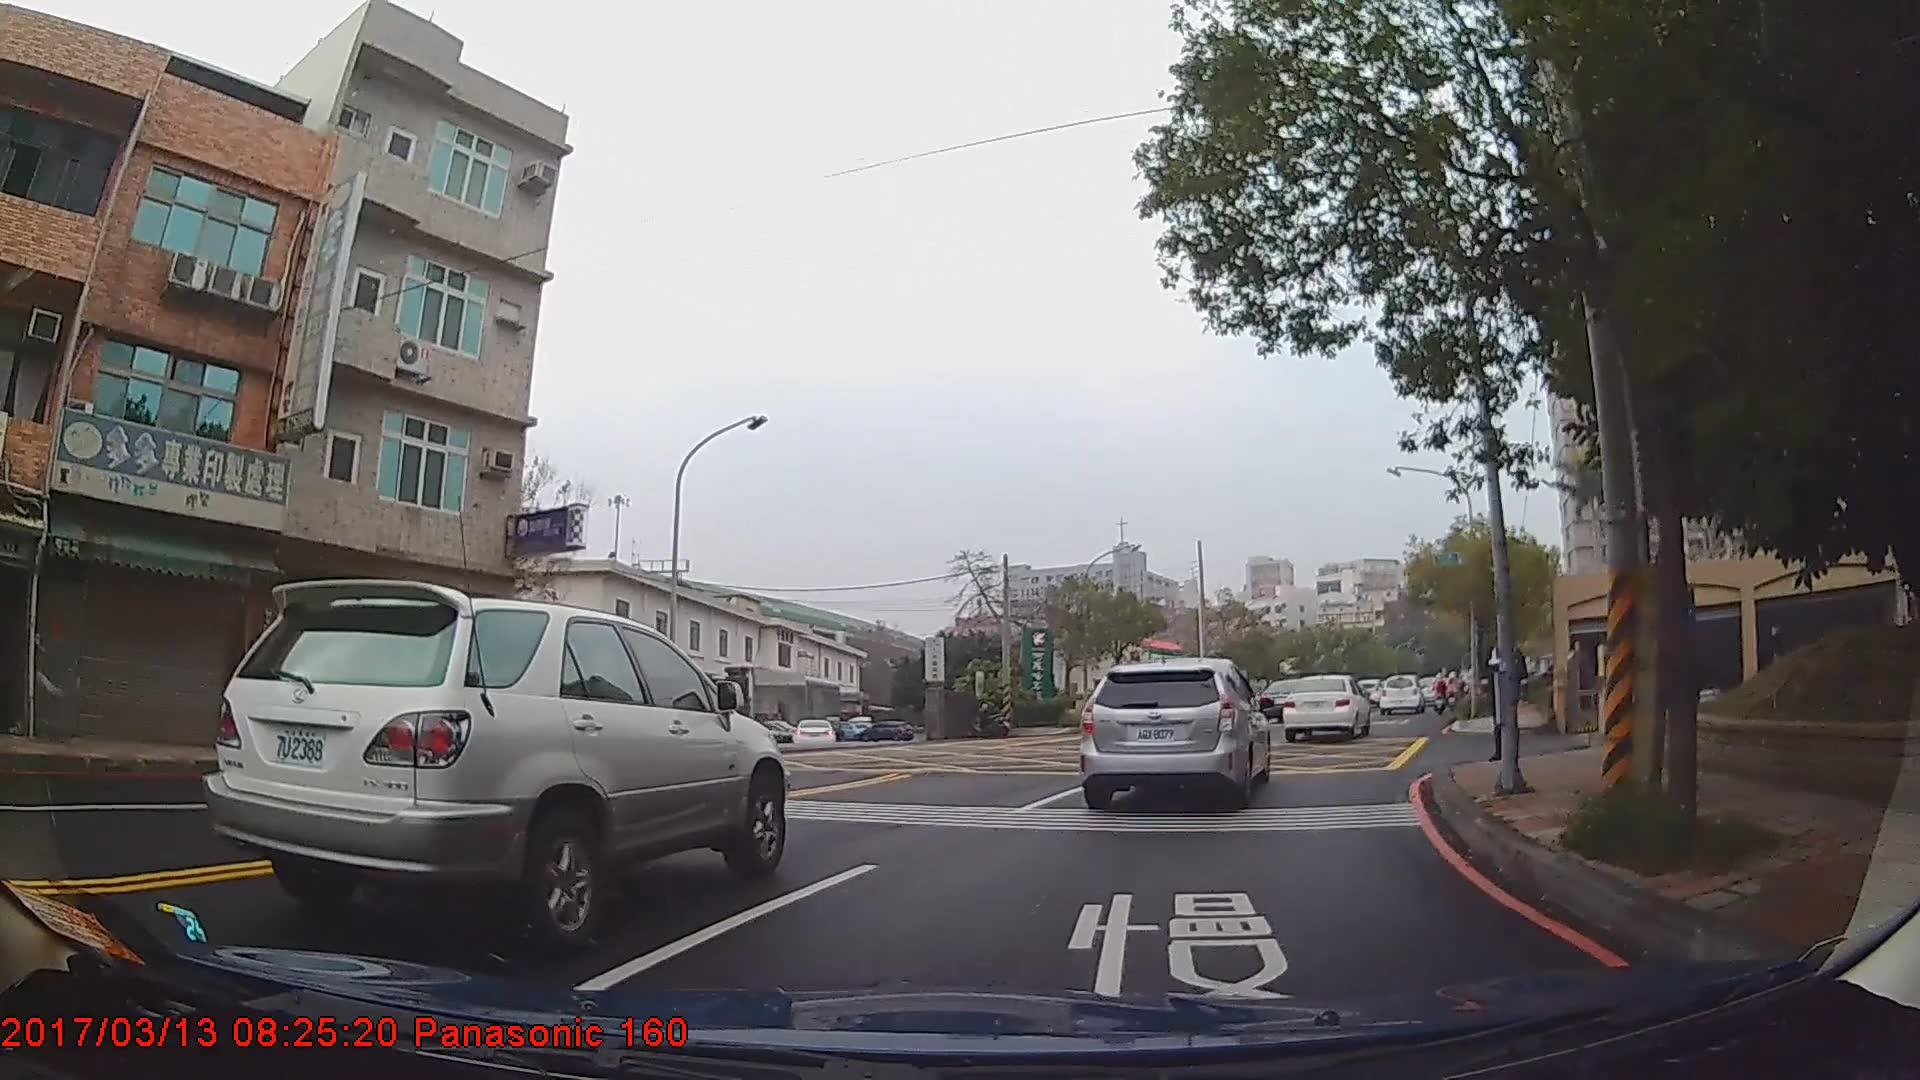pedestrian: (1487, 622, 1530, 760)
vehicle: (198, 576, 788, 946), (1077, 653, 1273, 818), (1281, 673, 1372, 738), (1376, 671, 1426, 714), (855, 718, 916, 740), (792, 717, 837, 746)
